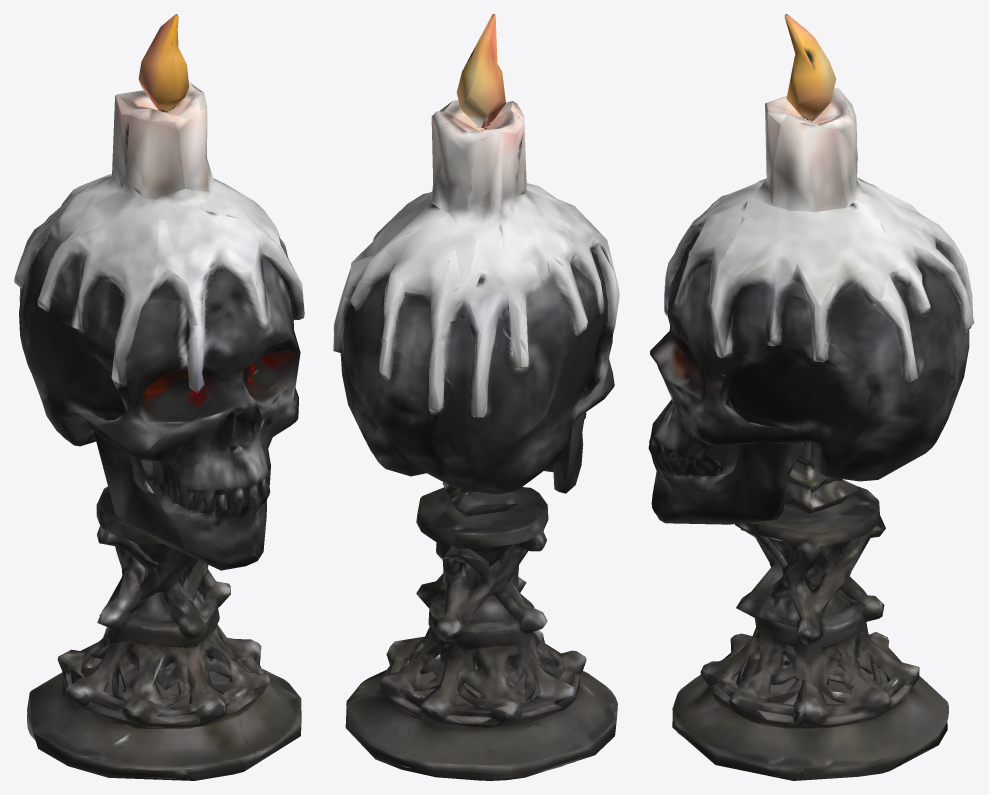
Rendered from black-wax-skull-goblet-candle-optimized.glb.
3 views of the same model, side by side, from view 1: azimuth 30°, elevation 25°; view 2: azimuth 150°, elevation 25°; view 3: azimuth 270°, elevation 25° (orthographic). The views are drawn at different scales.
Visible parts, largest first — view 1: geometry_0; view 2: geometry_0; view 3: geometry_0.
Boxes of the visible parts, x1,y1,x2,y2 form: geometry_0: [14, 14, 304, 780]; geometry_0: [333, 14, 619, 780]; geometry_0: [648, 14, 974, 780].
Bounding box in the file's own units: 0.1341 × 0.38 × 0.1581.
1 material, 1 textured.
